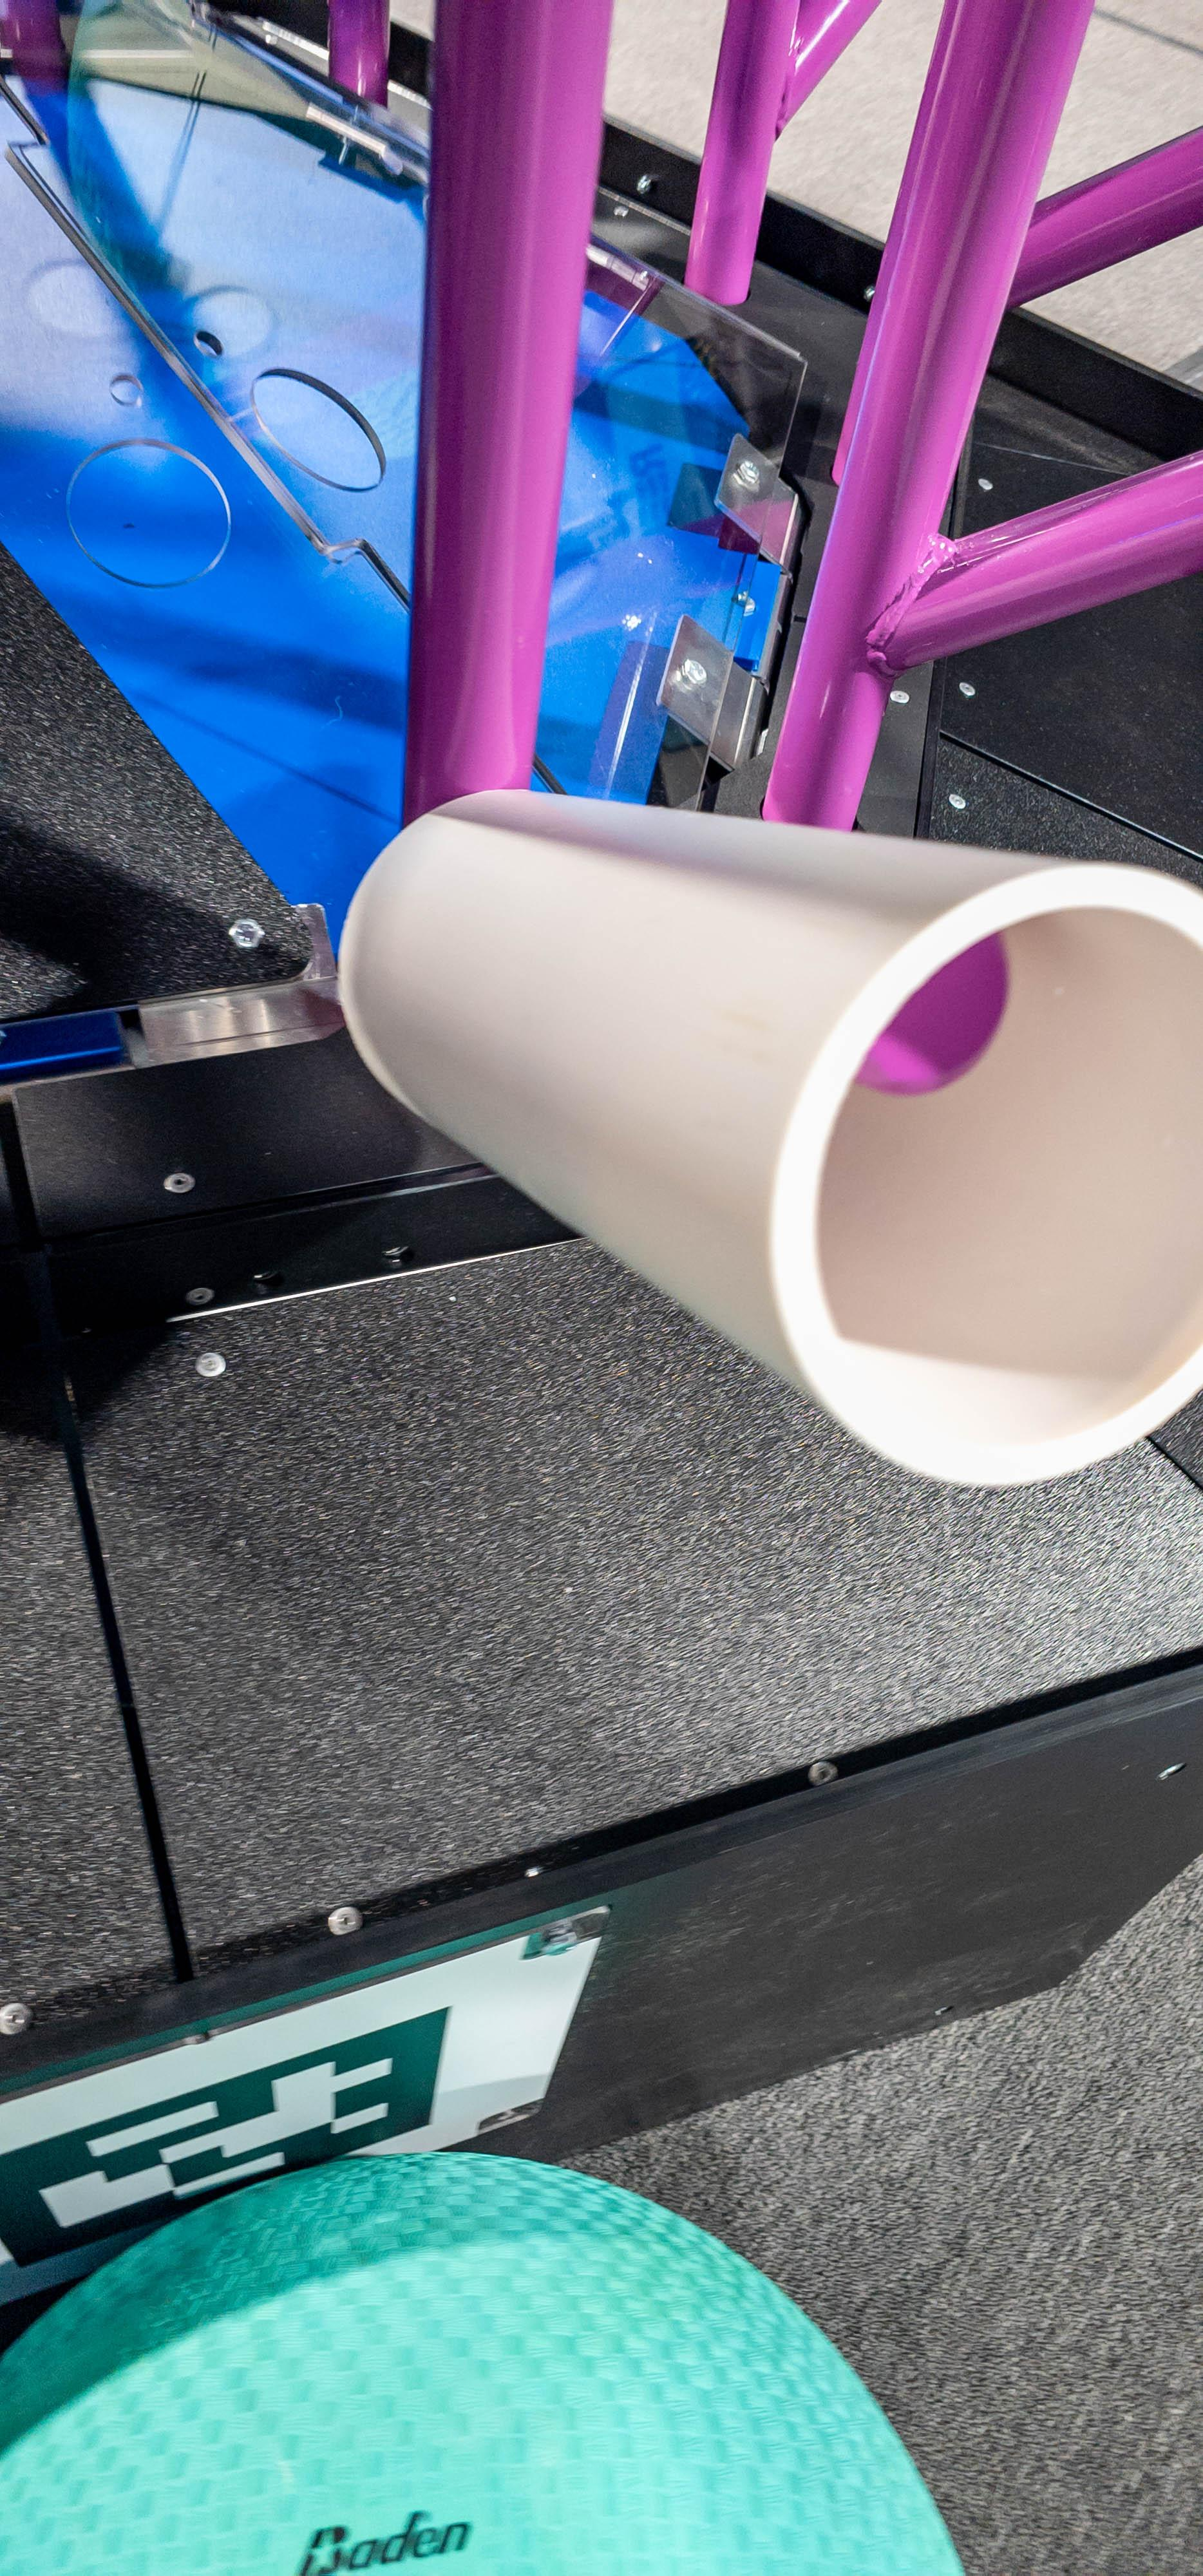ALGAE: (0, 2154, 963, 2576)
CORAL: (345, 792, 1201, 1490)
